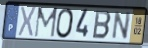4: (75, 7, 91, 41)
B: (91, 9, 112, 41)
M: (33, 6, 59, 39)
N: (110, 11, 133, 41)
O: (55, 7, 75, 40)
X: (17, 5, 38, 38)
